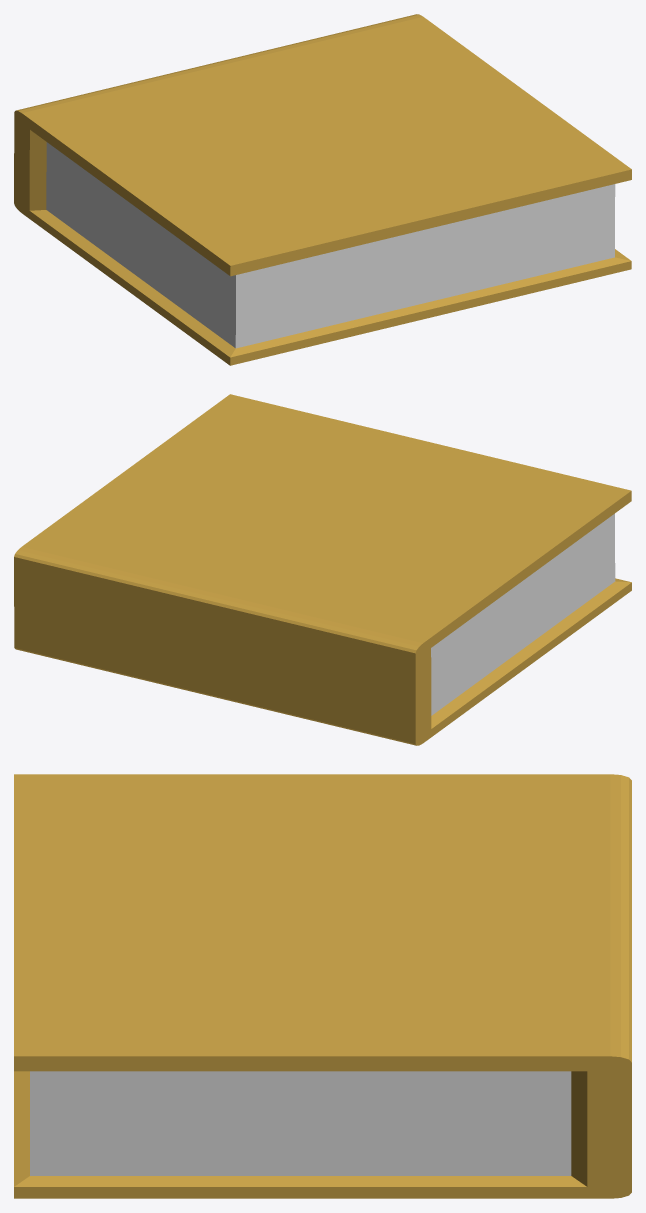
File: Prop_Biblioteca_Libro3.fbx
The picture shows the model from 3 angles, top to bottom: view 1: azimuth 30°, elevation 25°; view 2: azimuth 150°, elevation 25°; view 3: azimuth 270°, elevation 25°; orthographic projection. The views are drawn at different scales.
Visible parts, largest first — view 1: Cube.014; view 2: Cube.014; view 3: Cube.014.
Boxes of the visible parts, bbox=[...] form: Cube.014: bbox=[14, 14, 631, 365]; Cube.014: bbox=[14, 394, 631, 745]; Cube.014: bbox=[14, 774, 631, 1198].
Bounding box in the file's own units: 439 × 106 × 409.
